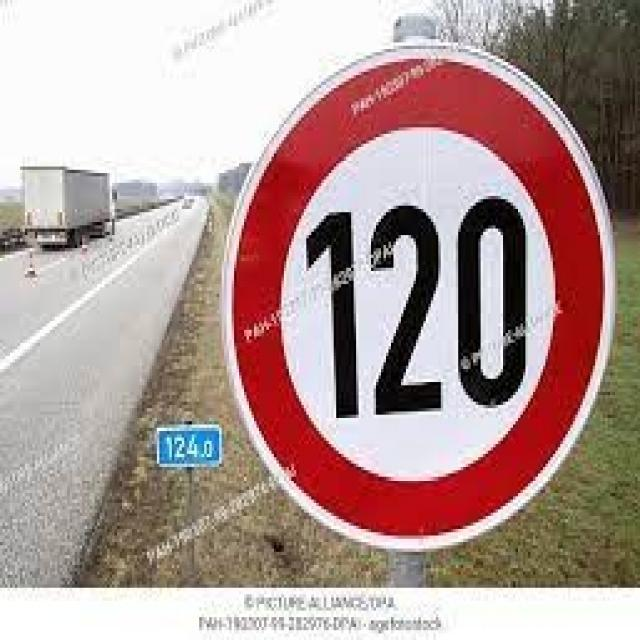speed_limit_120: (218, 34, 621, 554)
